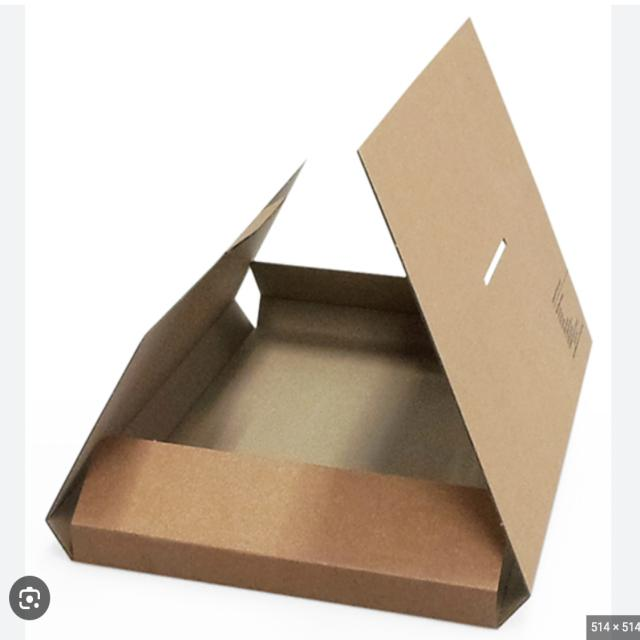biodegradable: (27, 2, 607, 632)
